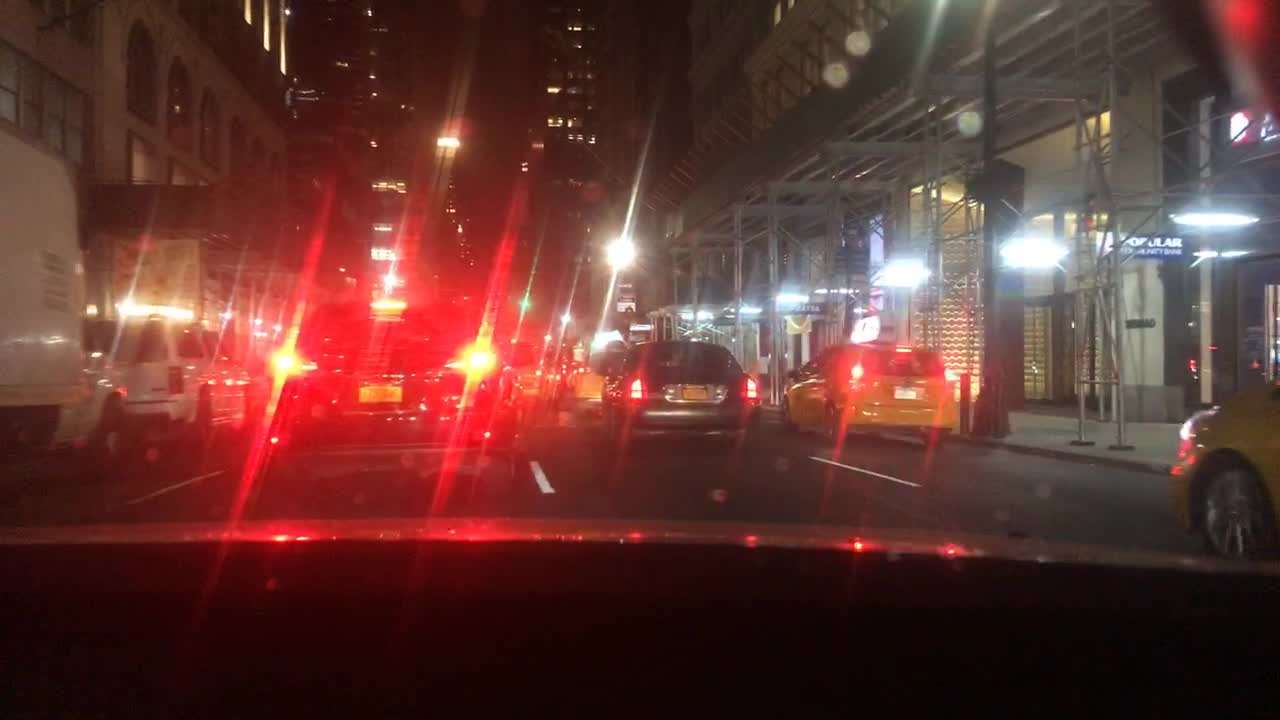bus: (0, 110, 86, 472)
car: (256, 289, 531, 500), (77, 311, 263, 449), (775, 334, 962, 454), (1165, 370, 1278, 567), (594, 334, 766, 463), (502, 338, 563, 404), (553, 351, 604, 414)
traffic sign: (777, 299, 830, 314), (617, 279, 639, 313)
